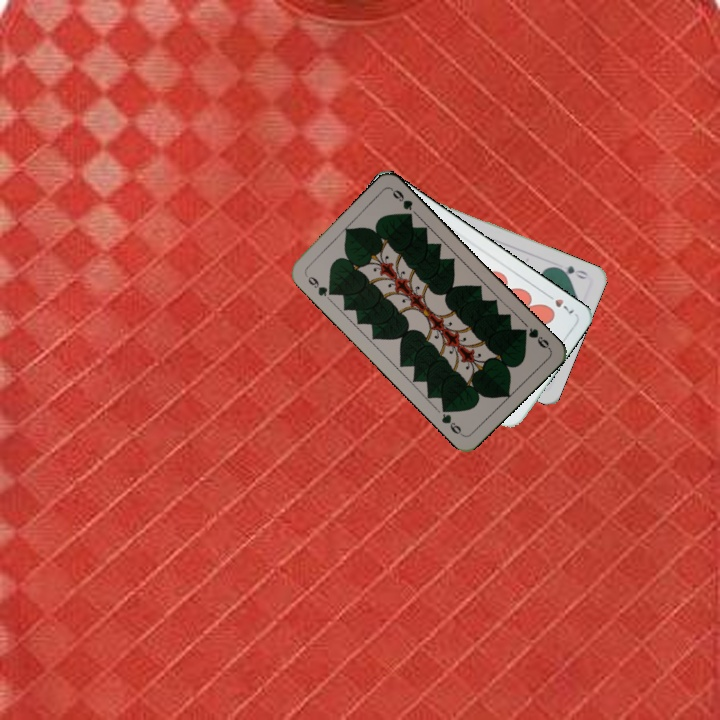G9: (516, 324, 553, 352), (301, 271, 337, 299)
GO: (552, 262, 591, 282)
H7: (542, 289, 577, 318)
